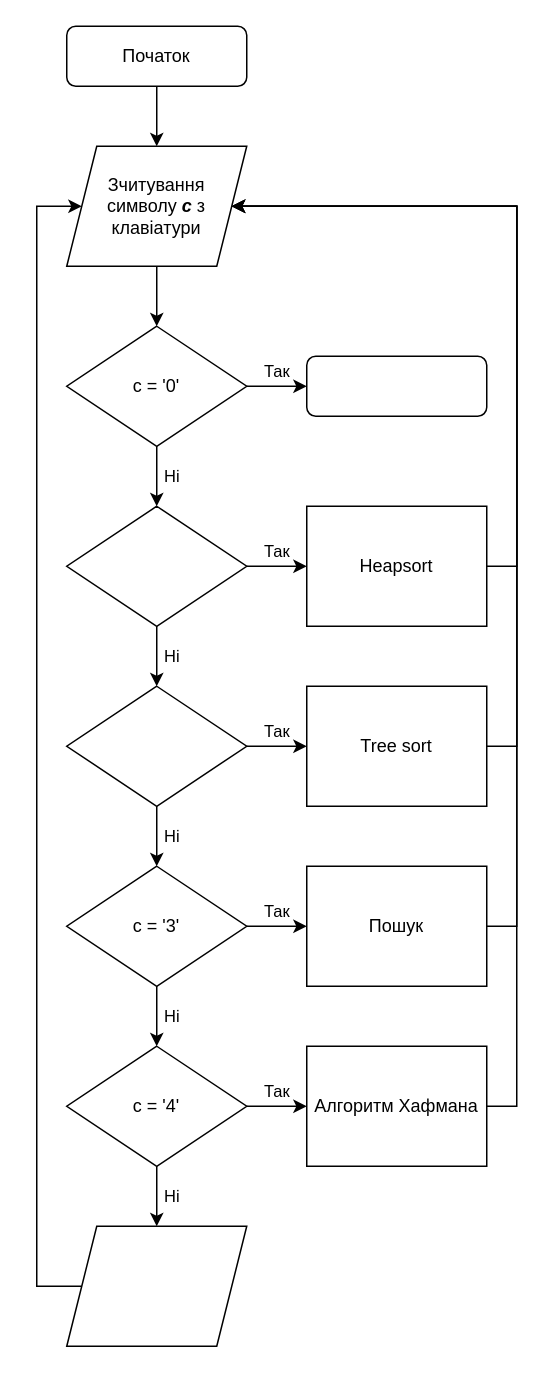
The diagram is 555 pixels wide and 1373 high, and some of its shapes have lost their labels. The shapes that lost their labels are listed below. From the top down, each one's box as (x1, y1, x2, y2) in pixels, then its label:
(305, 355, 487, 416): Кінець
(65, 505, 247, 626): с = '1'
(65, 685, 247, 806): с = '2'
(65, 1225, 247, 1346): Некоректний вибір
